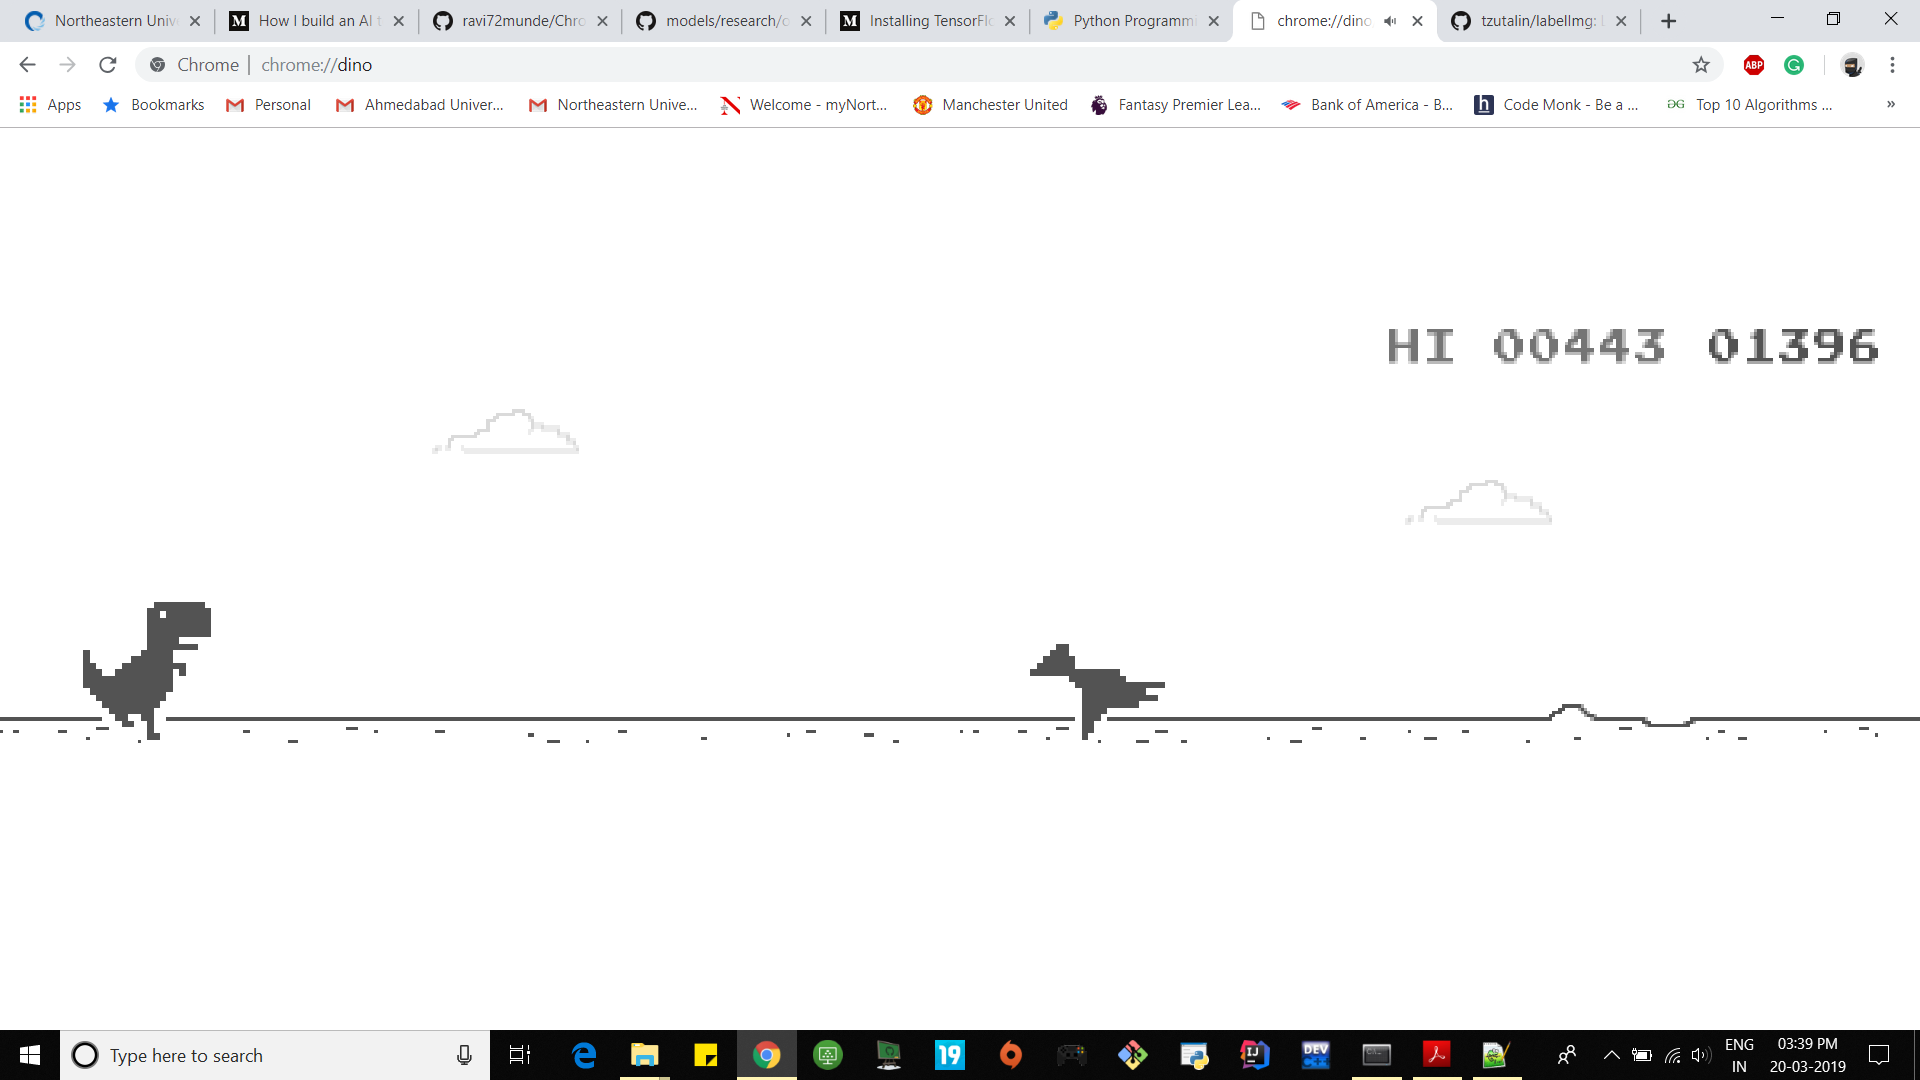bird: (1030, 642, 1166, 736)
dino: (84, 605, 210, 745)
